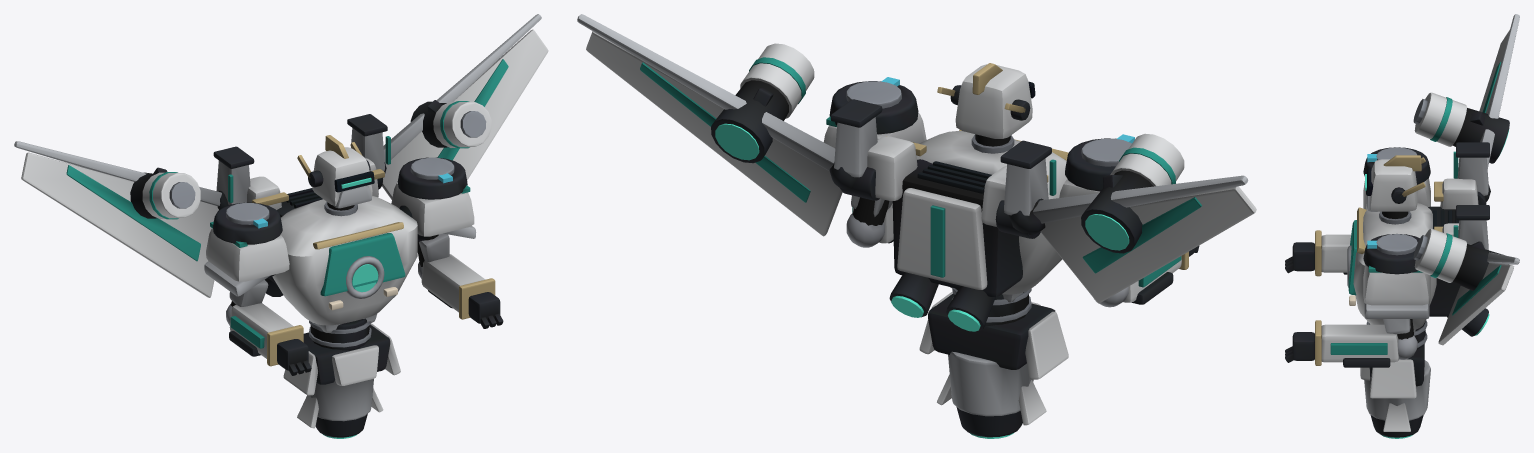
File: ex_seraph_2.glb
The picture shows the model from 3 angles, left to right: view 1: azimuth 30°, elevation 25°; view 2: azimuth 150°, elevation 25°; view 3: azimuth 270°, elevation 25°; orthographic projection. The views are drawn at different scales.
Parts seen in each view (by area): view 1: body, flap_4, flap_0; view 2: body, flap_0, flap_4; view 3: body, flap_0, flap_4.
Boxes of the visible parts, bbox=[...] form: body: bbox=[204, 114, 503, 438]; flap_4: bbox=[14, 141, 228, 297]; flap_0: bbox=[382, 14, 548, 199]; body: bbox=[823, 63, 1199, 438]; flap_0: bbox=[577, 14, 857, 236]; flap_4: bbox=[1009, 133, 1256, 303]; body: bbox=[1285, 142, 1489, 438]; flap_0: bbox=[1413, 228, 1519, 345]; flap_4: bbox=[1413, 14, 1519, 201].
Bounding box in the file's own units: 6.61 × 3.69 × 2.66.
